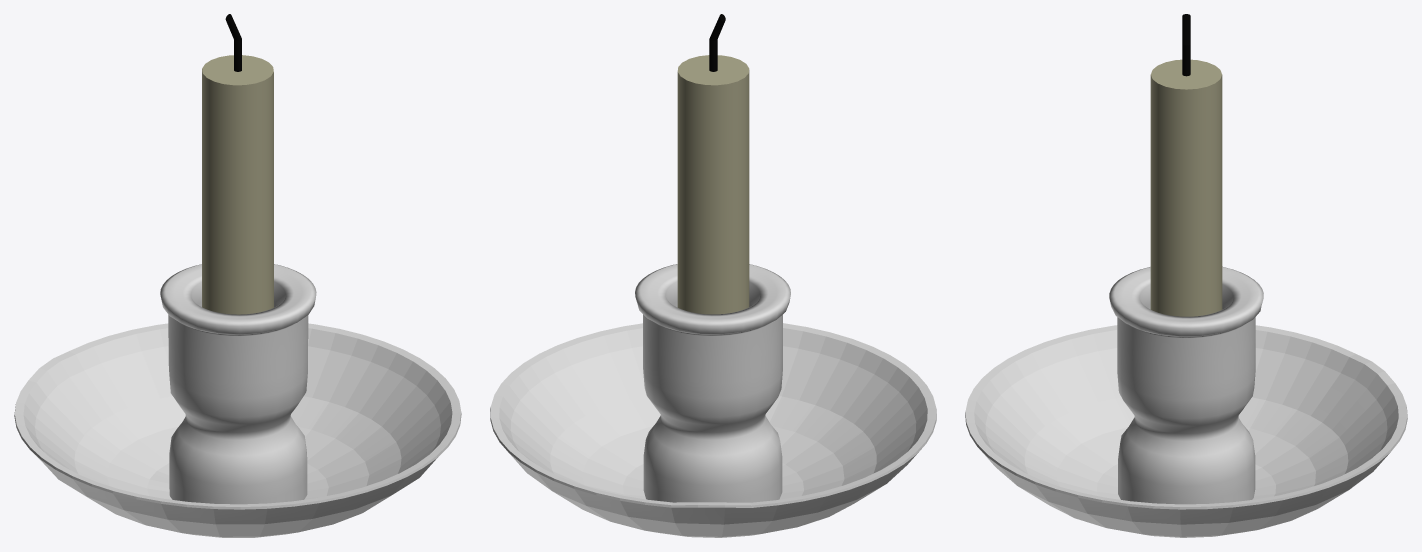
The model's file is Mesh_Canddle.fbx.
3 views of the same model, side by side, from view 1: azimuth 30°, elevation 25°; view 2: azimuth 150°, elevation 25°; view 3: azimuth 270°, elevation 25° (orthographic).
Visible parts, largest first — view 1: Mesh_Canddle; view 2: Mesh_Canddle; view 3: Mesh_Canddle.
Boxes of the visible parts, x1,y1,x2,y2 form: Mesh_Canddle: (14, 14, 461, 537); Mesh_Canddle: (490, 14, 936, 537); Mesh_Canddle: (965, 14, 1407, 537).
Bounding box in the file's own units: 47.85 × 58.16 × 47.85.
